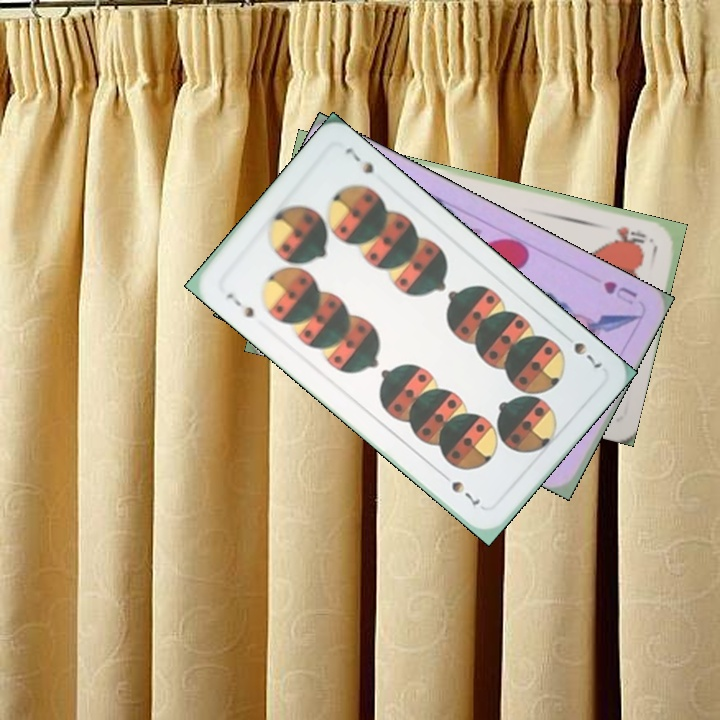HO: (609, 222, 649, 247)
HU: (599, 277, 640, 304)
S7: (569, 338, 605, 371), (221, 288, 257, 321)
